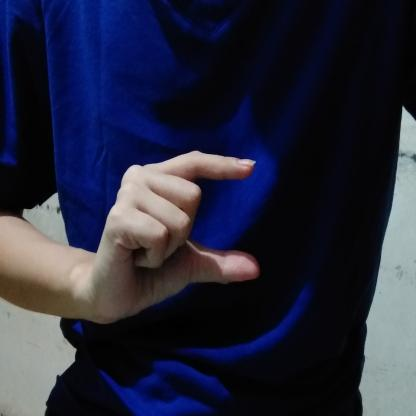small: (84, 145, 270, 329)
